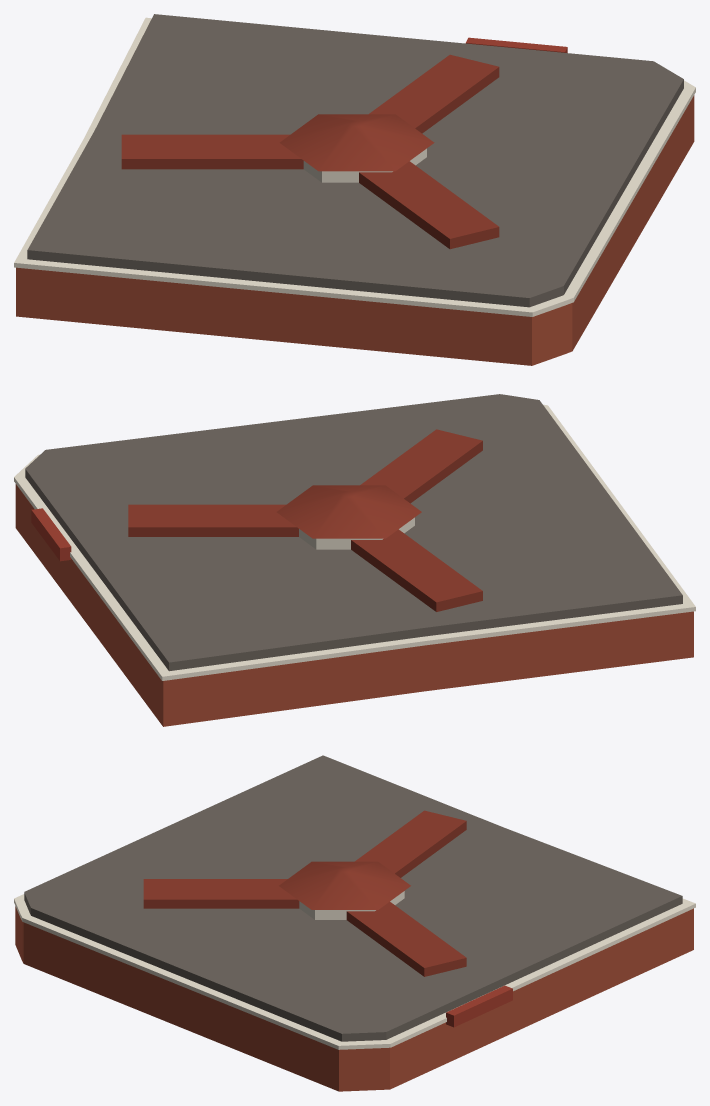
The model's file is second-market.glb.
The picture shows the model from 3 angles, top to bottom: view 1: azimuth 30°, elevation 25°; view 2: azimuth 150°, elevation 25°; view 3: azimuth 270°, elevation 25°; orthographic projection. The views are drawn at different scales.
Visible parts, largest first — view 1: second-market; view 2: second-market; view 3: second-market.
Boxes of the visible parts, <box> form: second-market: <box>14,14,695,365</box>; second-market: <box>14,394,695,726</box>; second-market: <box>14,755,695,1091</box>.
Bounding box in the file's own units: 126 × 16.8 × 125.
